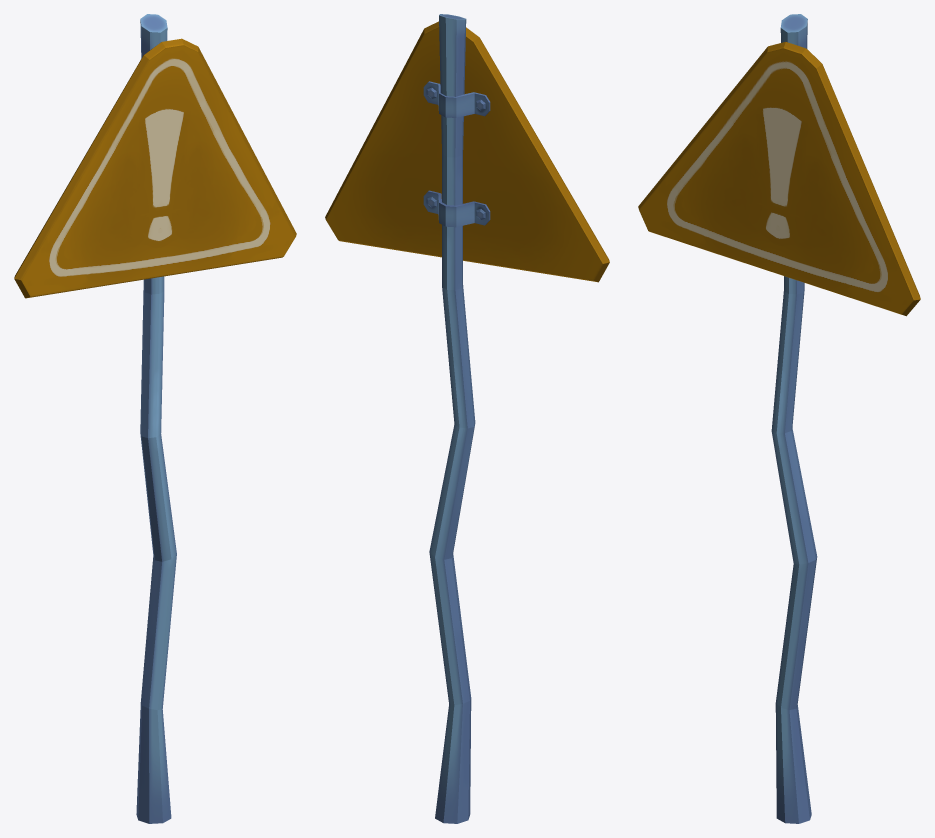
Rendered from warning sign.fbx.
3 views of the same model, side by side, from view 1: azimuth 30°, elevation 25°; view 2: azimuth 150°, elevation 25°; view 3: azimuth 330°, elevation 25° (orthographic).
Parts seen in each view (by area): view 1: Warning sign; view 2: Warning sign; view 3: Warning sign.
Boxes of the visible parts, x1,y1,x2,y2 form: Warning sign: [14, 14, 296, 823]; Warning sign: [325, 14, 609, 823]; Warning sign: [638, 14, 920, 823].
Bounding box in the file's own units: 240 × 648 × 29.94.
1 material, 1 textured.
